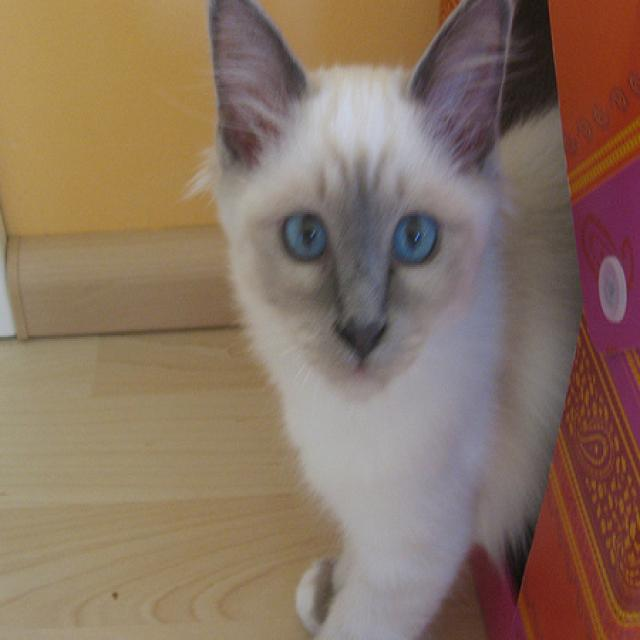Birman: (205, 0, 580, 640)
